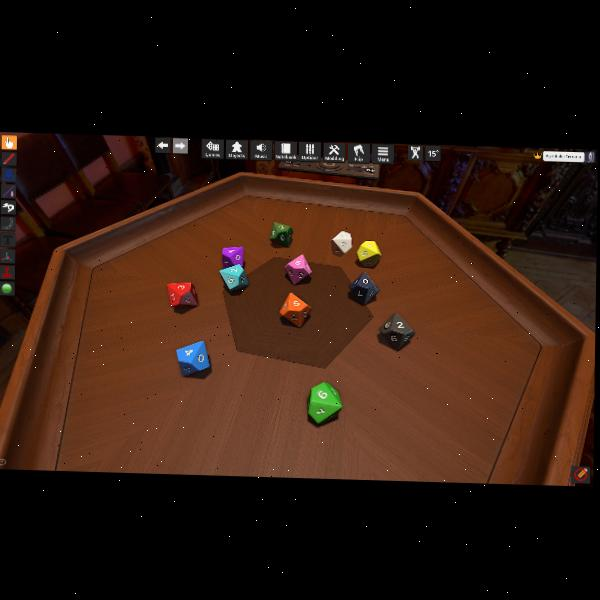d10: (306, 382, 340, 424), (175, 338, 211, 375), (378, 311, 412, 350), (279, 291, 310, 327), (349, 270, 377, 304), (168, 281, 198, 308), (220, 263, 248, 291), (284, 254, 310, 284), (356, 239, 381, 267), (270, 221, 293, 246), (222, 246, 244, 270), (331, 230, 352, 255)
